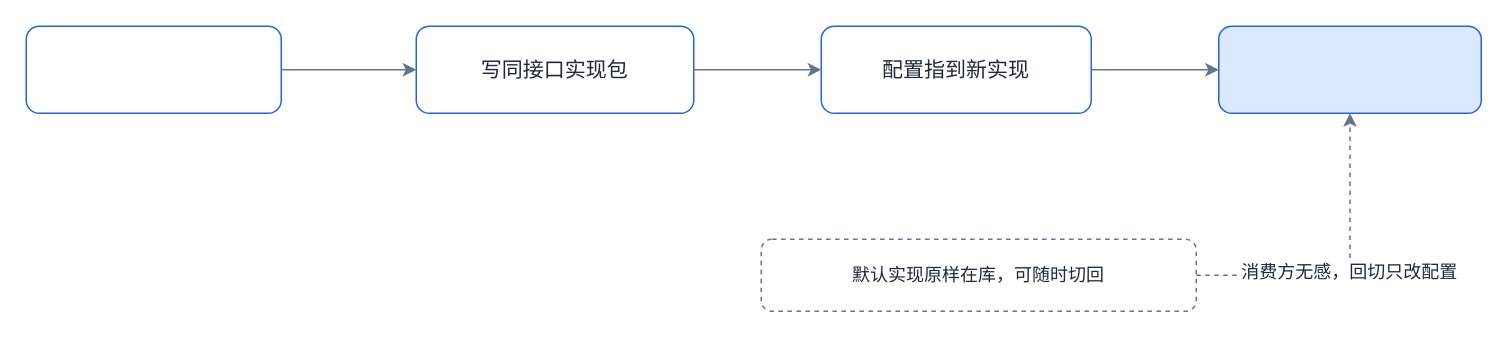
This 1508x338 diagram has some shape labels left out. Each missing label, with the box of its shape:
挑接缝 ctx.xxx: (25, 25, 281, 113)
插件树重载生效: (1217, 25, 1481, 113)
